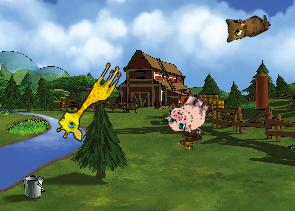giraffe: (52, 54, 125, 146)
owl: (218, 2, 272, 47)
pig: (162, 86, 215, 141)
